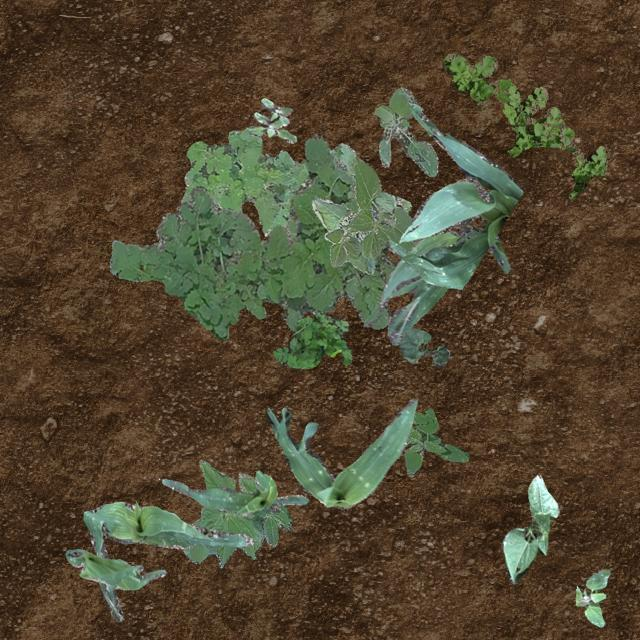crop: (384, 110, 524, 288), (82, 500, 252, 620), (362, 224, 510, 344), (266, 398, 416, 508), (310, 156, 418, 274), (182, 459, 290, 566), (160, 469, 308, 516), (502, 473, 558, 582), (64, 548, 164, 588), (398, 328, 448, 366)
weed: (108, 132, 396, 338), (180, 126, 410, 236), (442, 52, 608, 198), (372, 86, 437, 176), (272, 310, 350, 368), (403, 408, 468, 476), (248, 96, 296, 142), (574, 568, 608, 626)
